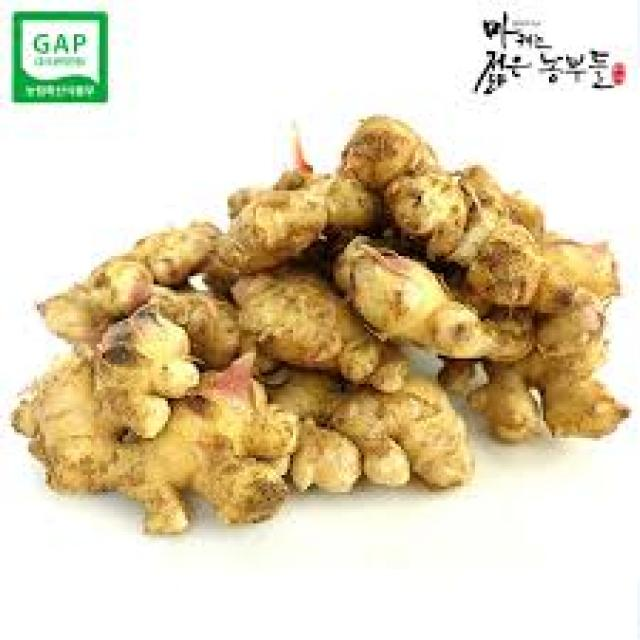ginger: (27, 132, 640, 530)
